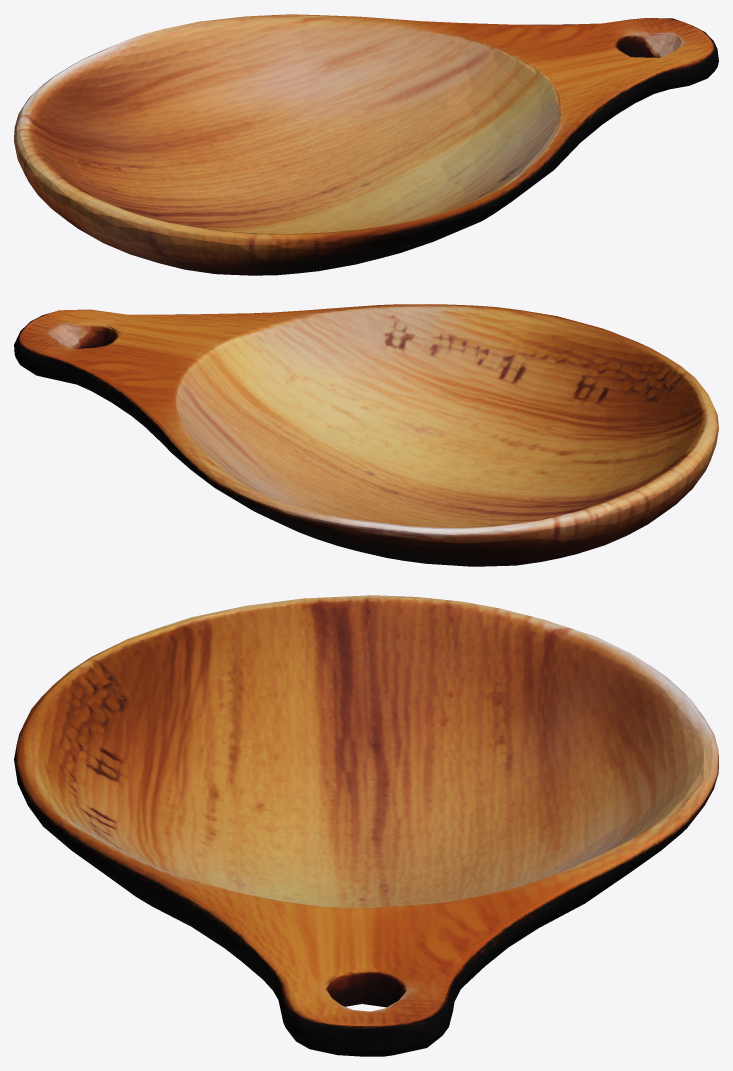
Rendered from wooden-bushcraft-spoon-rustic.jpeg.glb.
The picture shows the model from 3 angles, top to bottom: view 1: azimuth 30°, elevation 25°; view 2: azimuth 150°, elevation 25°; view 3: azimuth 270°, elevation 25°; orthographic projection. The views are drawn at different scales.
Parts seen in each view (by area): view 1: world; view 2: world; view 3: world.
Part boxes in pixels (<box>): world: <box>14,14,718,275</box>; world: <box>14,304,718,566</box>; world: <box>14,595,718,1056</box>.
Bounding box in the file's own units: 1 × 0.1496 × 0.7052.
1 material, 1 textured.
